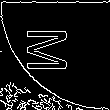M_E: (30, 32, 80, 78)
